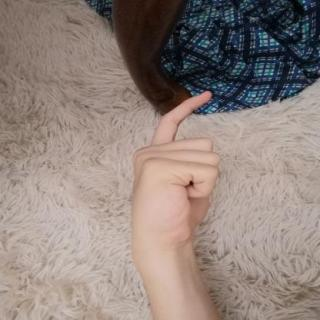RAA: (118, 83, 227, 255)
